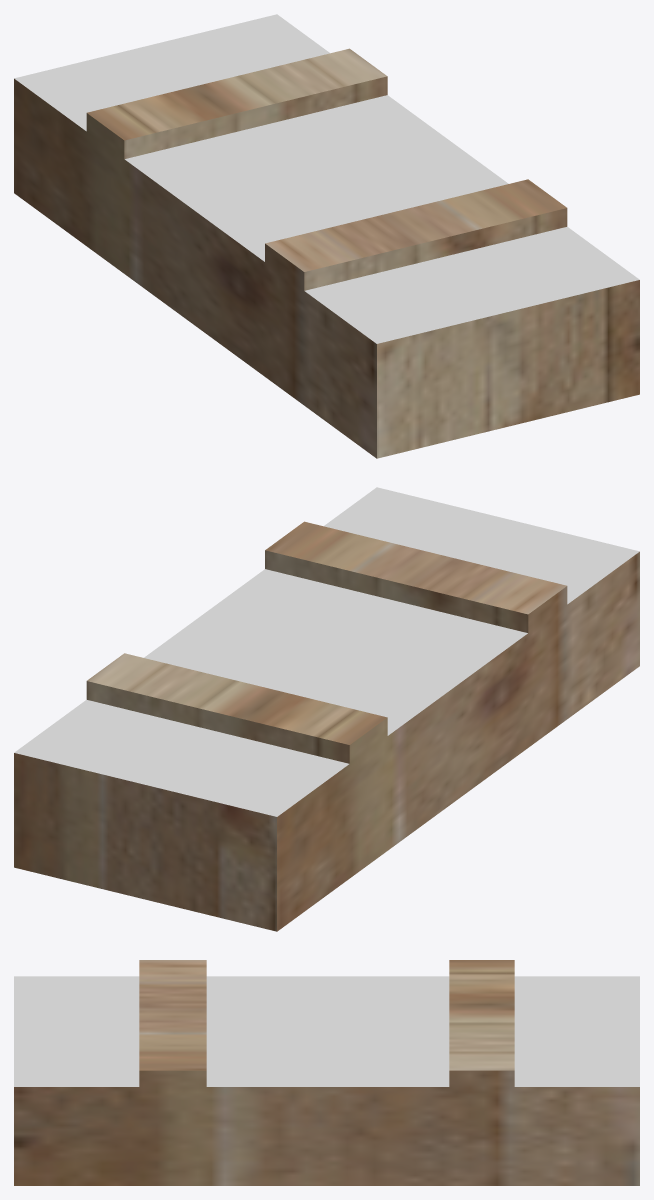
The model's file is crate2.glb.
3 views of the same model, one above another, from view 1: azimuth 30°, elevation 25°; view 2: azimuth 150°, elevation 25°; view 3: azimuth 270°, elevation 25° (orthographic). The views are drawn at different scales.
Visible parts, largest first — view 1: Cube; view 2: Cube; view 3: Cube.
Part boxes in pixels (bbox=[...]): Cube: bbox=[14, 14, 639, 458]; Cube: bbox=[14, 487, 639, 931]; Cube: bbox=[14, 960, 639, 1185].
Bounding box in the file's own units: 0.4401 × 0.2133 × 1.05.
2 materials, 1 textured.
